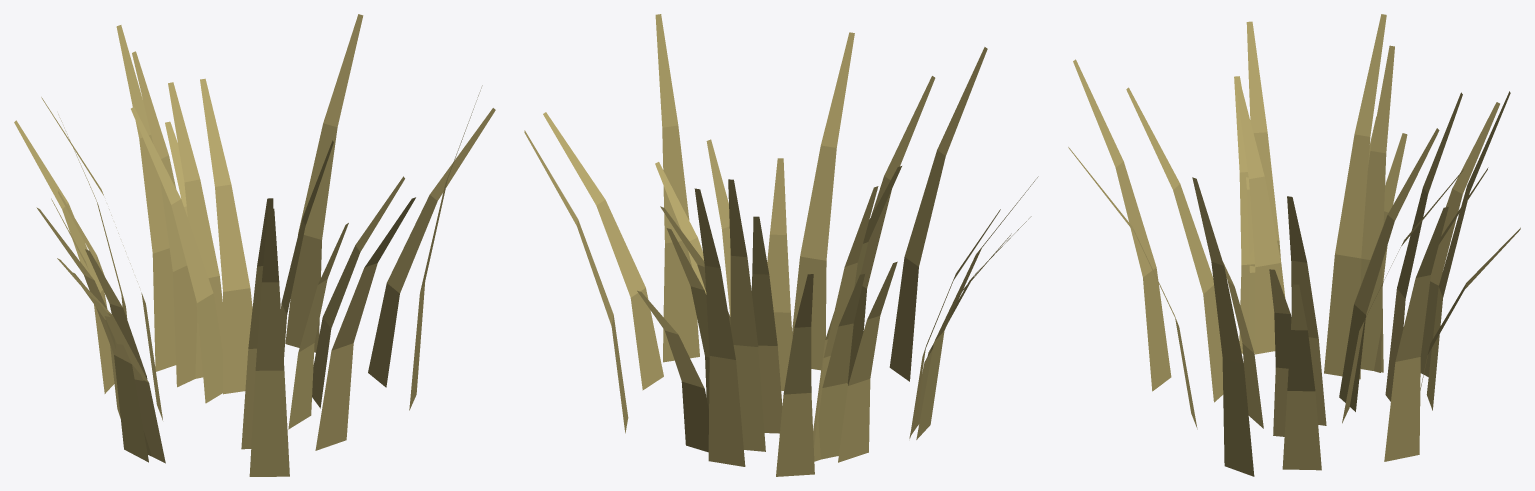
File: andes_ichu_lod0.glb
The picture shows the model from 3 angles, left to right: view 1: azimuth 30°, elevation 25°; view 2: azimuth 150°, elevation 25°; view 3: azimuth 270°, elevation 25°; orthographic projection. The views are drawn at different scales.
Visible parts, largest first — view 1: GEO-Andes_ichu_LOD0; view 2: GEO-Andes_ichu_LOD0; view 3: GEO-Andes_ichu_LOD0.
Boxes of the visible parts, x1=… form: GEO-Andes_ichu_LOD0: x1=14, y1=14, x2=495, y2=476; GEO-Andes_ichu_LOD0: x1=524, y1=14, x2=1038, y2=476; GEO-Andes_ichu_LOD0: x1=1068, y1=14, x2=1520, y2=476.
Size of the model in its own units: 1.24 by 0.7981 by 1.04.
